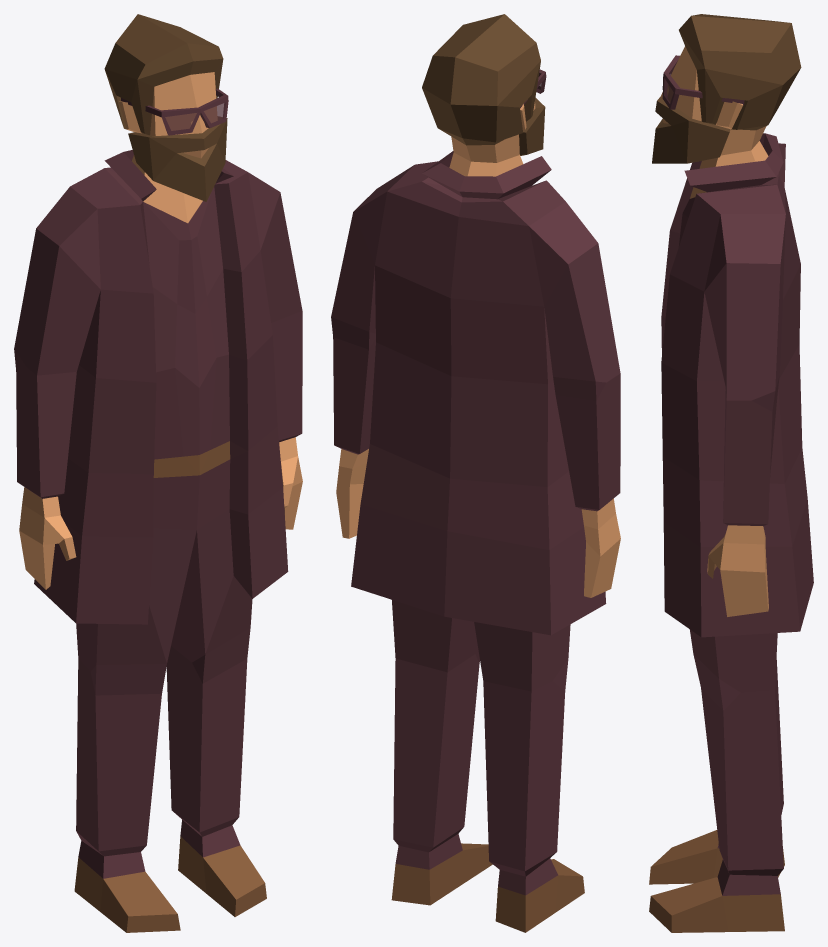
The model's file is man-doctor.fbx.
The picture shows the model from 3 angles, left to right: view 1: azimuth 30°, elevation 25°; view 2: azimuth 150°, elevation 25°; view 3: azimuth 270°, elevation 25°; orthographic projection.
Parts seen in each view (by area): view 1: man-doctor; view 2: man-doctor; view 3: man-doctor.
Part boxes in pixels (<box>): man-doctor: <box>14,14,302,932</box>; man-doctor: <box>331,14,620,932</box>; man-doctor: <box>649,14,813,932</box>.
Size of the model in its own units: 0.5881 by 1.83 by 0.3102.
